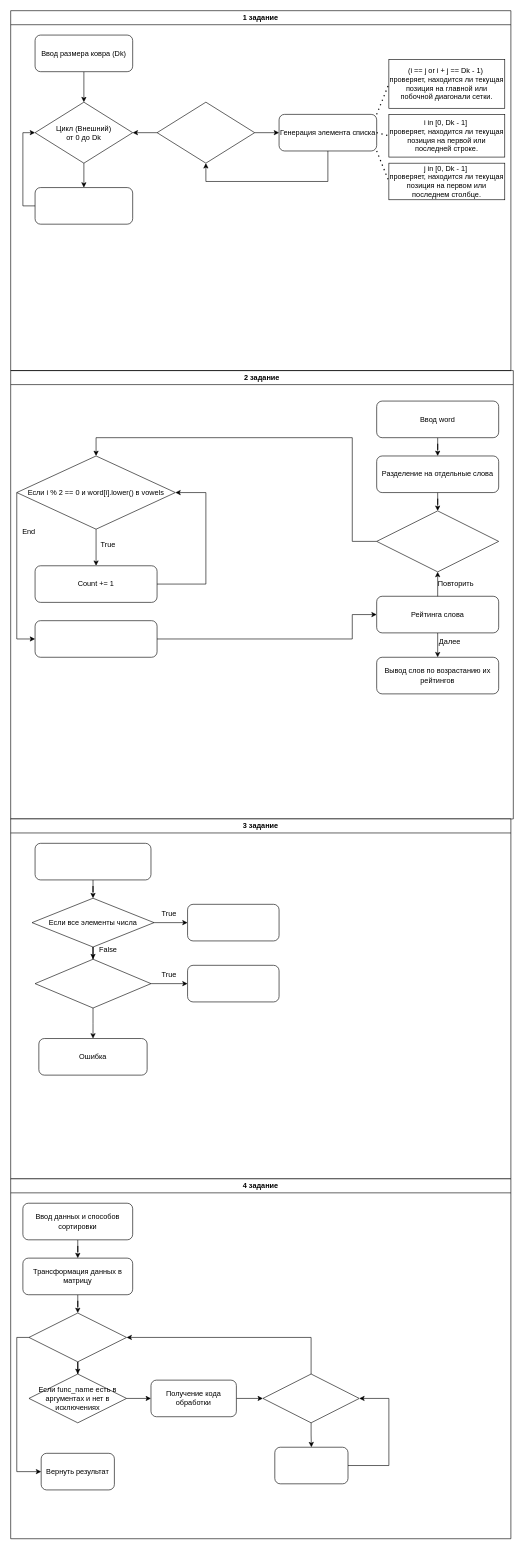
The diagram is 524 pixels wide and 1549 high, and some of its shapes have lost their labels. The shapes that lost their labels are listed below. From the top down, each one's centre as x and y in pixels, then its label:
the point at 205,132: Цикл (Внутренний)
the point at 83,205: Поочерёдный вывод срок ковра
the point at 437,541: Перебор каждого элемента
the point at 95,638: Возвращает Count
the point at 92,861: Ввод данных (ff) и сортировки (*args)
the point at 233,922: return tuple(filter(ff, args))
the point at 92,983: Если все элементы стоки
the point at 233,983: return tuple(filter(lambda x: x[0].isupper(), args))
the point at 77,1337: Цикл func_name, indices в аргументах
the point at 310,1398: Цикл i, j в indices
the point at 311,1465: Обработка значениий
